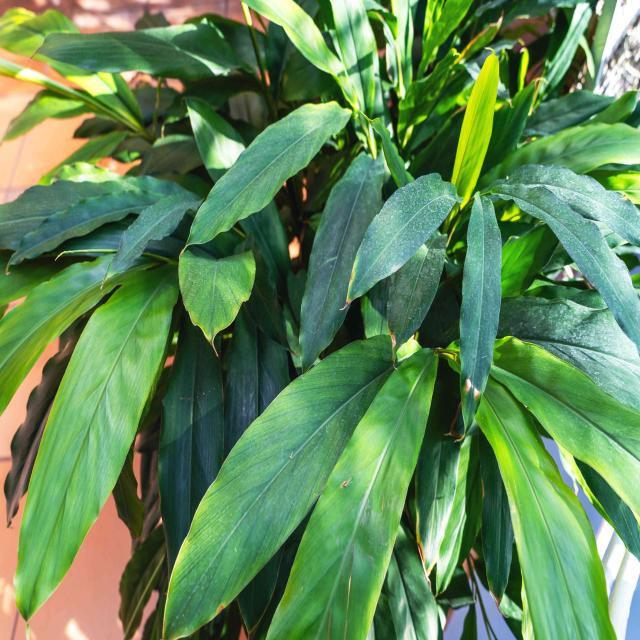Cardamom: (2, 22, 602, 596)
